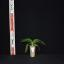leaf: (32, 39, 46, 45), (25, 43, 32, 53), (33, 41, 43, 46), (33, 44, 40, 51), (22, 38, 33, 42), (26, 45, 32, 51), (21, 41, 32, 43), (34, 45, 38, 47)
